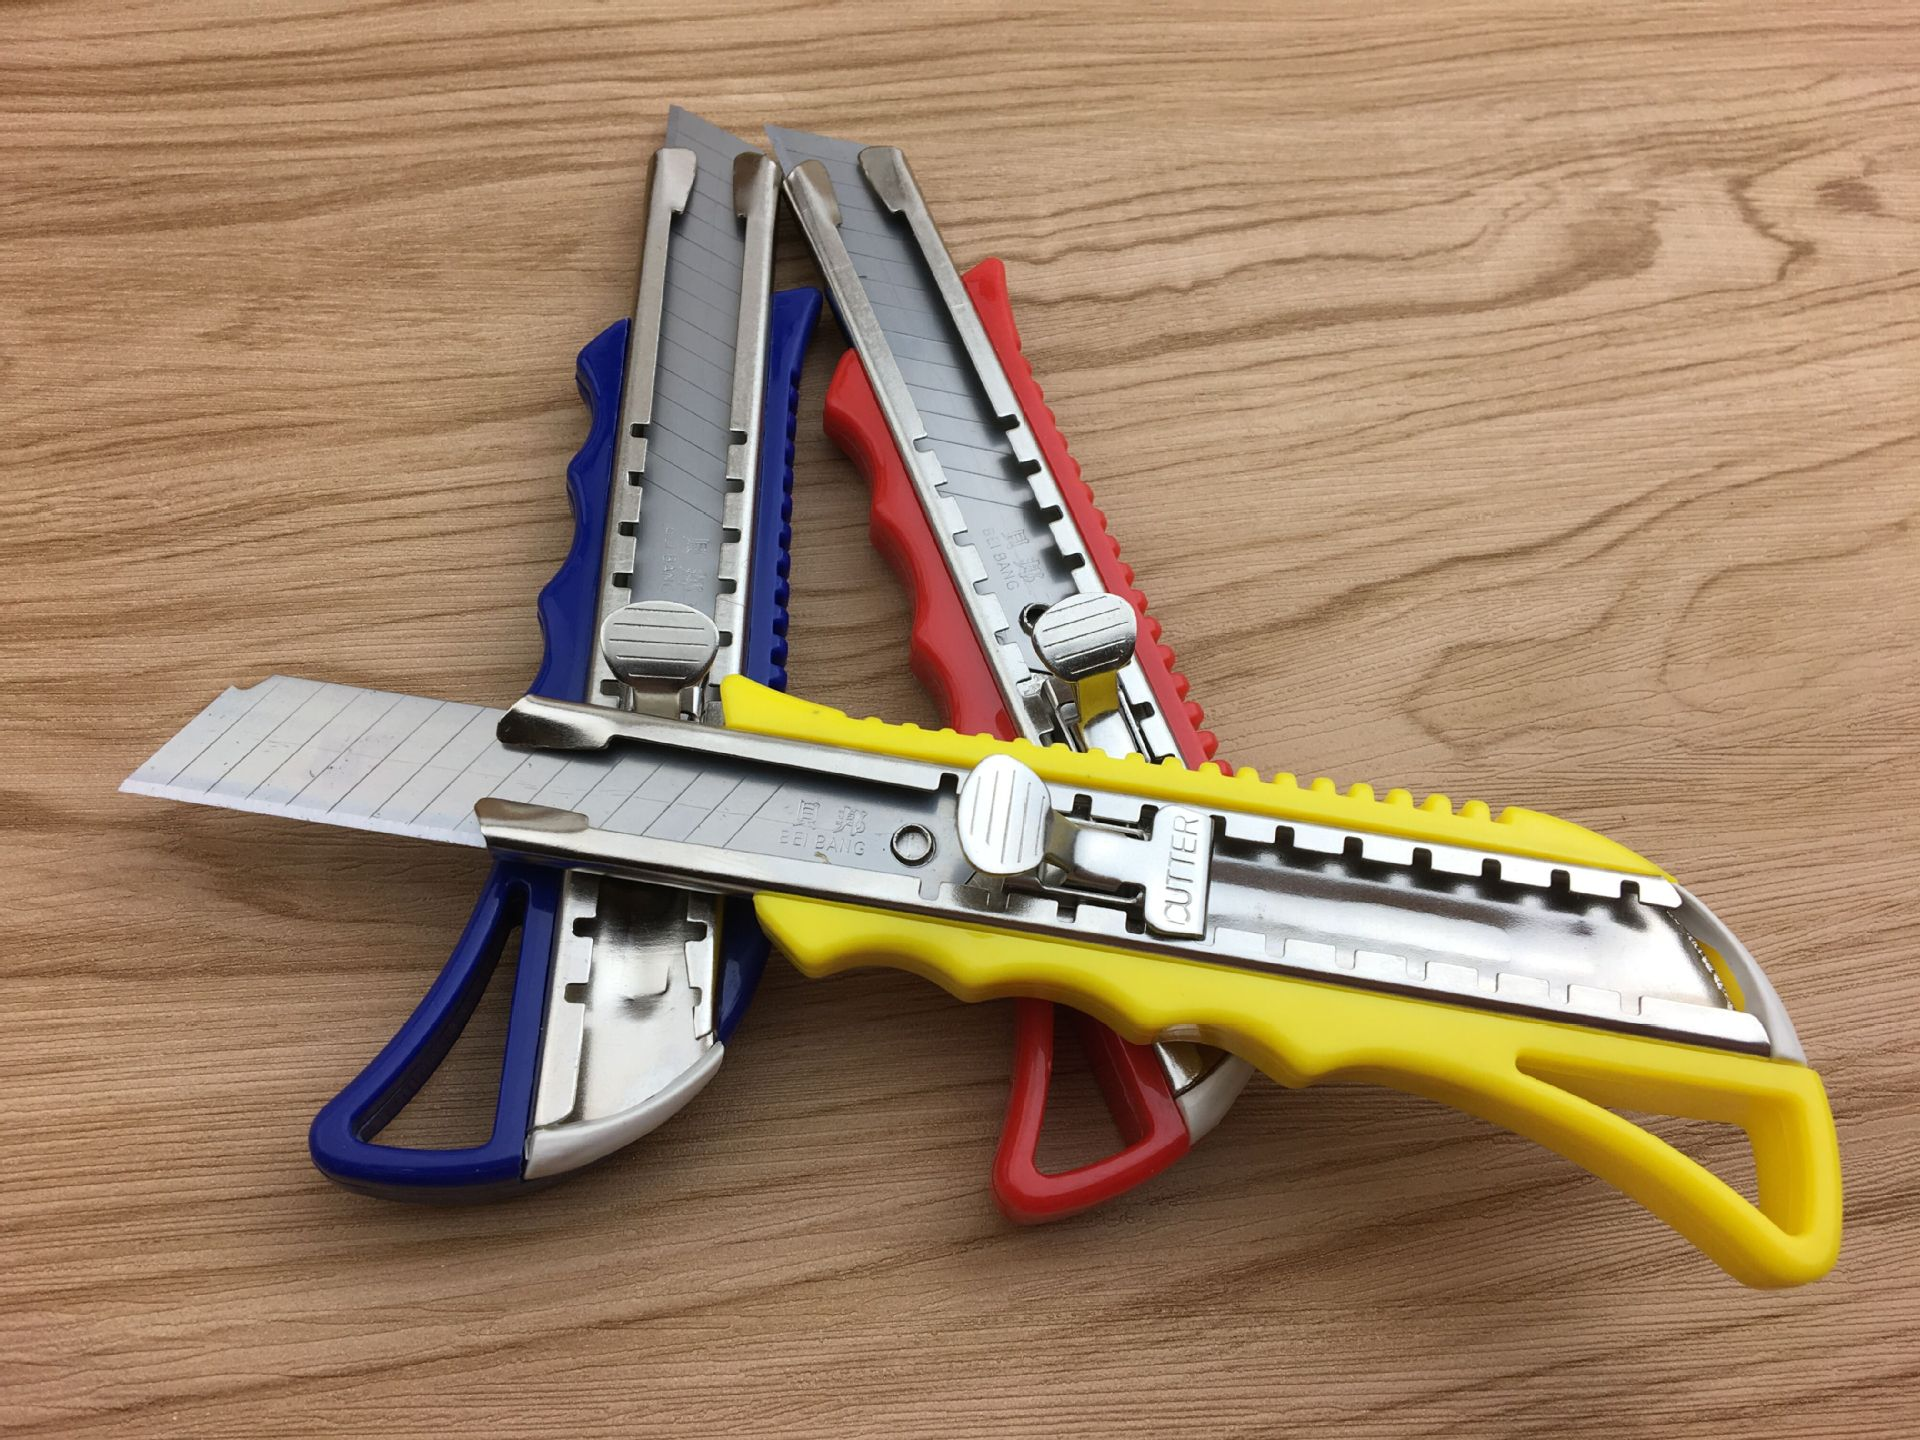cutter: (113, 672, 1861, 1292), (763, 113, 1324, 1224), (308, 101, 825, 1187)
